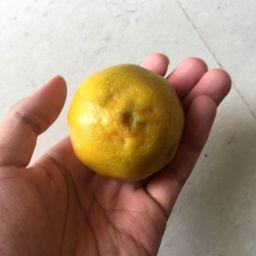Ripe: (69, 66, 184, 174)
